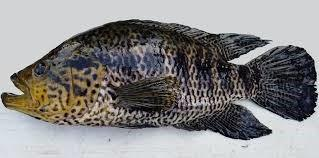Jaguar Gapote: (2, 17, 319, 141)
